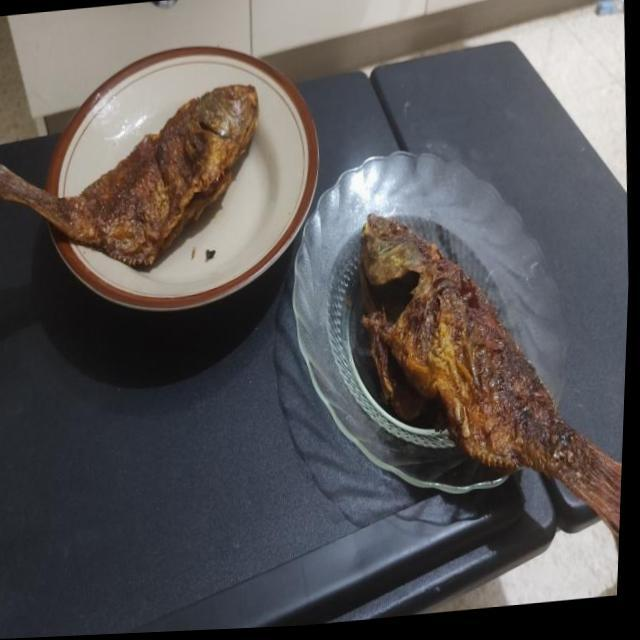ikan_mujair: (359, 215, 622, 532), (0, 85, 259, 266)
